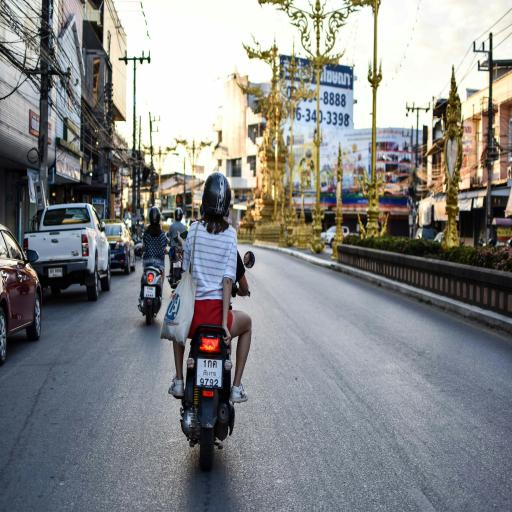place: (197, 358, 225, 392)
